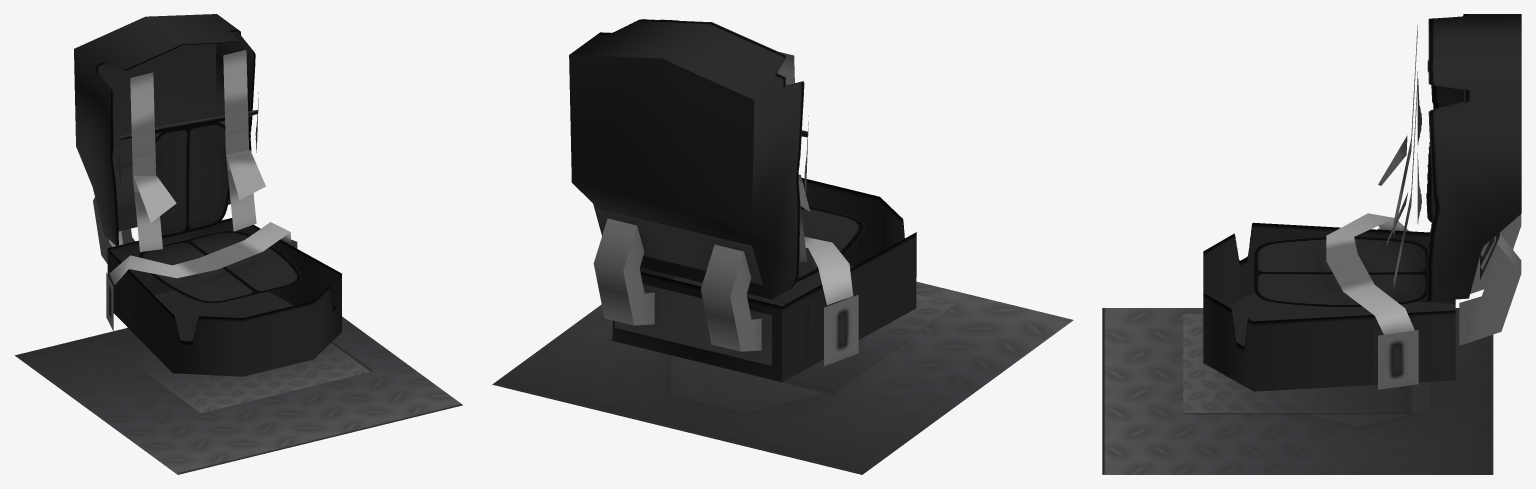
The model's file is obj_interactive_seat_03_lod1.fbx.
3 views of the same model, side by side, from view 1: azimuth 30°, elevation 25°; view 2: azimuth 150°, elevation 25°; view 3: azimuth 270°, elevation 25° (orthographic). The views are drawn at different scales.
Parts seen in each view (by area): view 1: obj_interactive_seat_07; view 2: obj_interactive_seat_07; view 3: obj_interactive_seat_07.
Part boxes in pixels (<box>): obj_interactive_seat_07: <box>15,14,462,474</box>; obj_interactive_seat_07: <box>492,19,1073,474</box>; obj_interactive_seat_07: <box>1102,14,1521,474</box>.
Size of the model in its own units: 3.5 by 3.45 by 3.71.
Materials: 1 (1 with a texture image).
